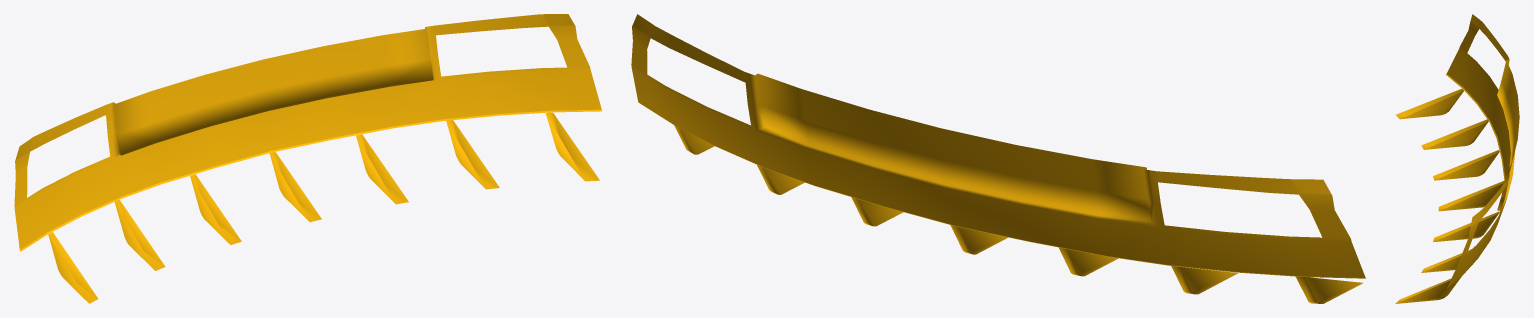
Rendered from evox_behind_boot.FBX.
3 views of the same model, side by side, from view 1: azimuth 30°, elevation 25°; view 2: azimuth 150°, elevation 25°; view 3: azimuth 270°, elevation 25° (orthographic). The views are drawn at different scales.
Parts seen in each view (by area): view 1: DrawCal106; view 2: DrawCal106; view 3: DrawCal106.
Boxes of the visible parts, x1,y1,x2,y2 form: DrawCal106: [14, 14, 602, 303]; DrawCal106: [631, 14, 1365, 303]; DrawCal106: [1395, 14, 1519, 303].
Bounding box in the file's own units: 3274 × 677 × 803.
